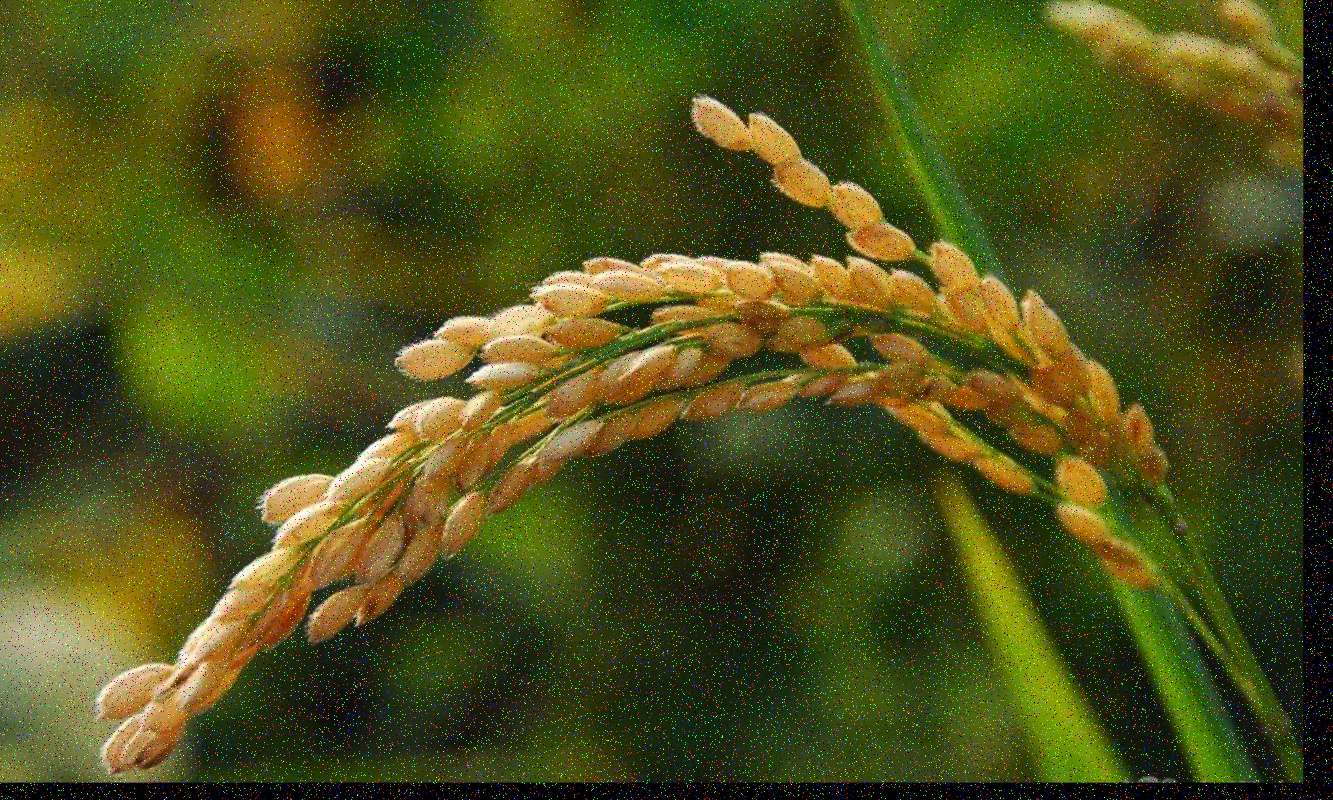rice: (85, 37, 1165, 778)
